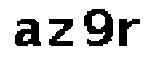9: (80, 7, 116, 48)
a: (12, 18, 41, 50)
r: (118, 17, 143, 47)
z: (46, 17, 75, 50)
